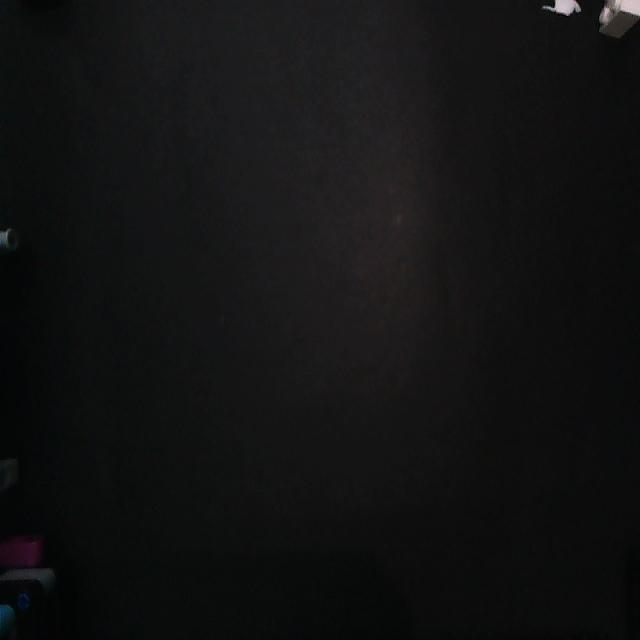lego_brick: (600, 0, 639, 37)
